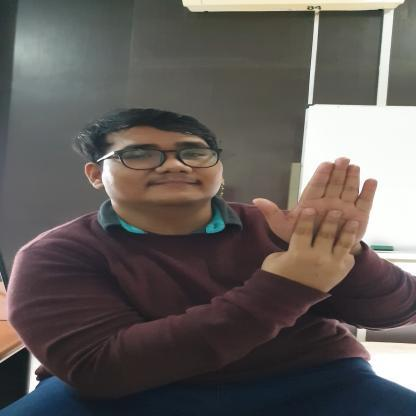M: (250, 155, 382, 270)
